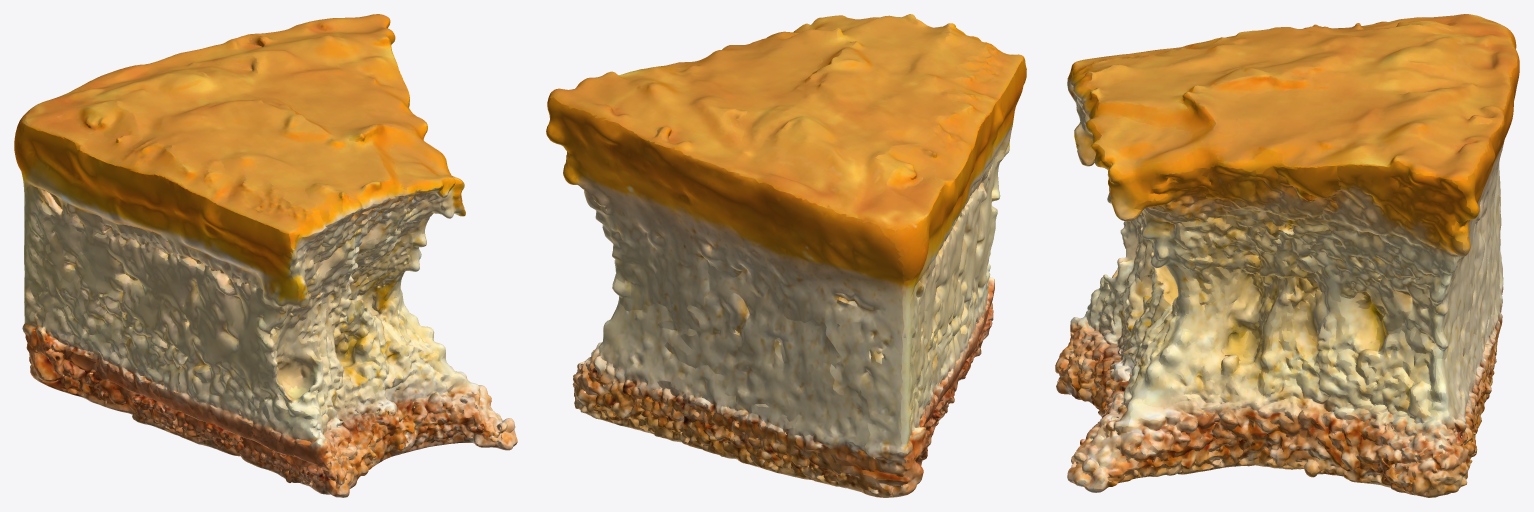
The model's file is mango-cheesecake-2.glb.
The picture shows the model from 3 angles, left to right: view 1: azimuth 30°, elevation 25°; view 2: azimuth 150°, elevation 25°; view 3: azimuth 270°, elevation 25°; orthographic projection. The views are drawn at different scales.
Visible parts, largest first — view 1: FoodRedoV2Alignment-0; view 2: FoodRedoV2Alignment-0; view 3: FoodRedoV2Alignment-0.
Boxes of the visible parts, <box> form: FoodRedoV2Alignment-0: <box>14,14,517,497</box>; FoodRedoV2Alignment-0: <box>546,14,1026,497</box>; FoodRedoV2Alignment-0: <box>1055,14,1519,497</box>.
Bounding box in the file's own units: 0.089 × 0.074 × 0.0889.
Materials: 1 (1 with a texture image).
